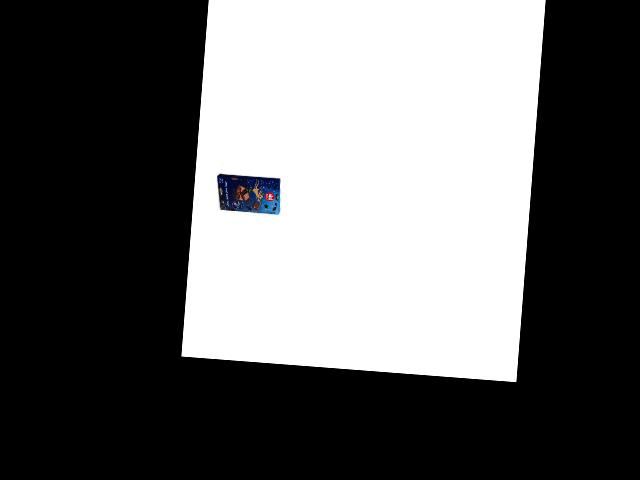chocolate: (214, 169, 283, 219)
